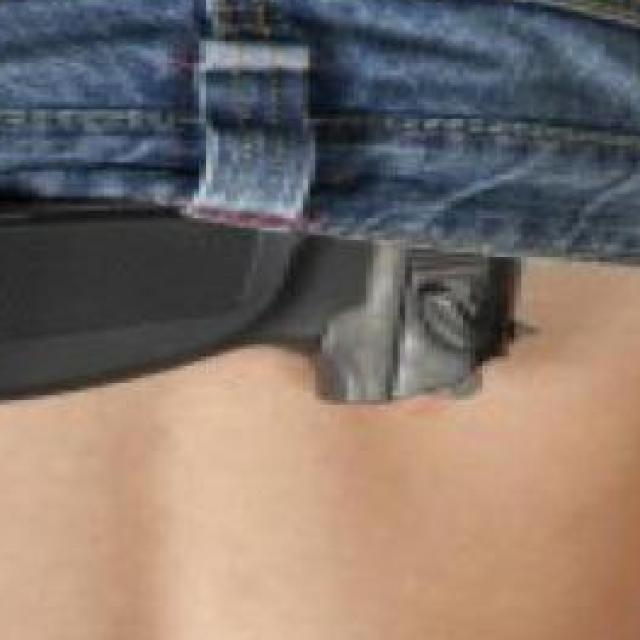pistol: (0, 182, 548, 419)
